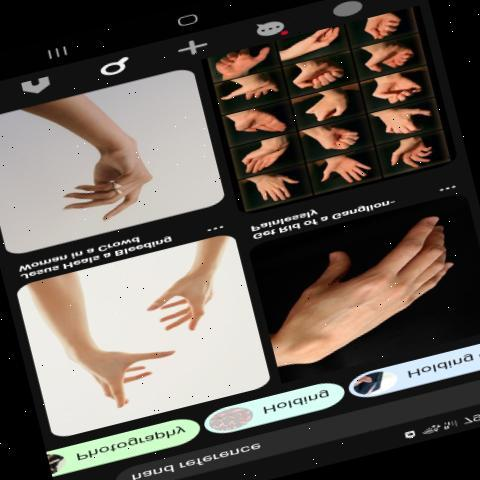Hands: (275, 211, 465, 369), (40, 120, 174, 237), (56, 336, 177, 424), (130, 259, 234, 351), (312, 152, 376, 196), (238, 134, 296, 182), (234, 102, 296, 145), (219, 70, 284, 110), (377, 99, 434, 142), (282, 25, 346, 62), (246, 169, 308, 207), (390, 133, 437, 176)
